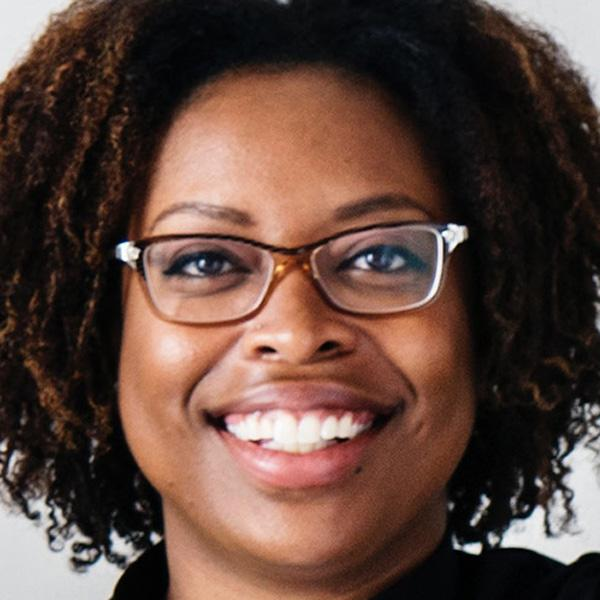Eyes: (155, 235, 255, 298), (331, 232, 424, 286)
